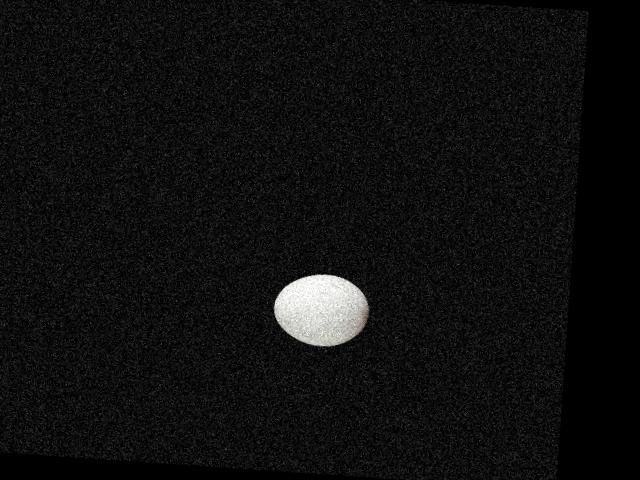egg: (272, 270, 371, 348)
